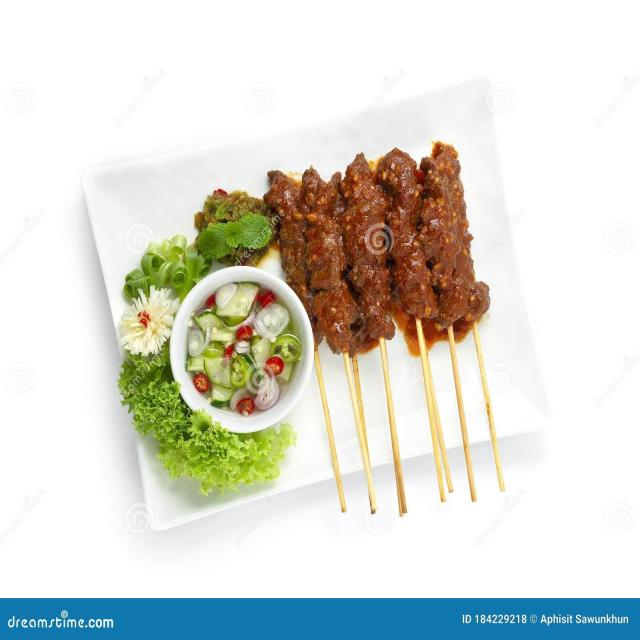Sate: (254, 136, 546, 503)
